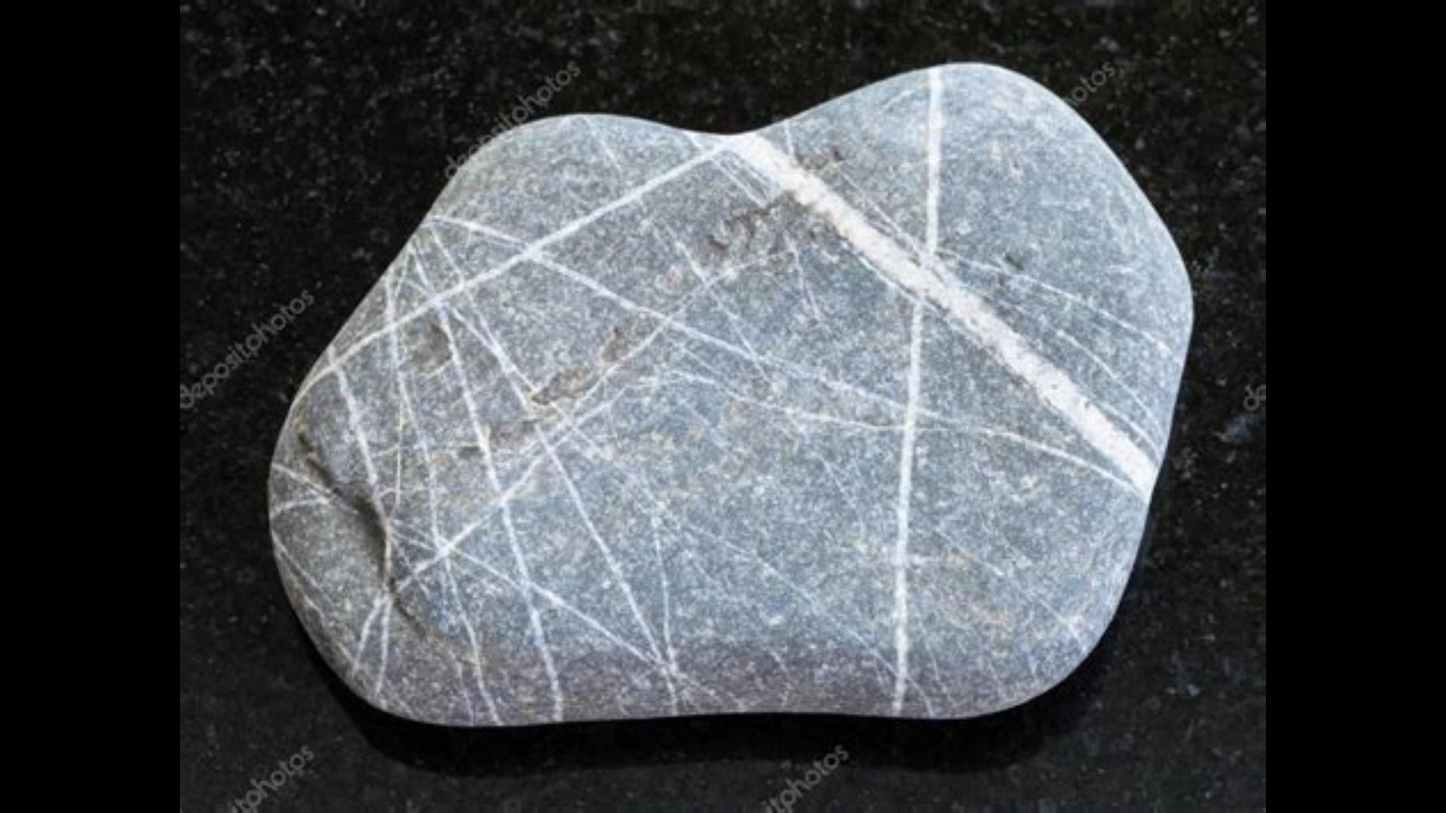rock: (269, 64, 1188, 717)
